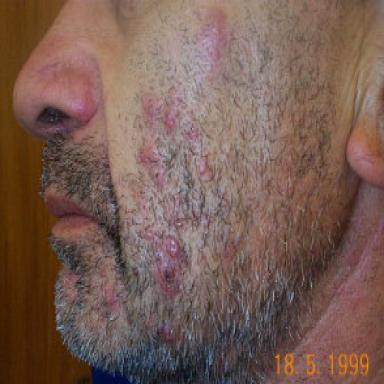acne: (144, 228, 181, 296), (139, 145, 164, 187), (211, 10, 227, 50), (142, 93, 157, 122), (103, 286, 119, 308), (157, 324, 175, 343), (163, 110, 175, 134), (197, 156, 209, 176), (185, 126, 199, 143)
